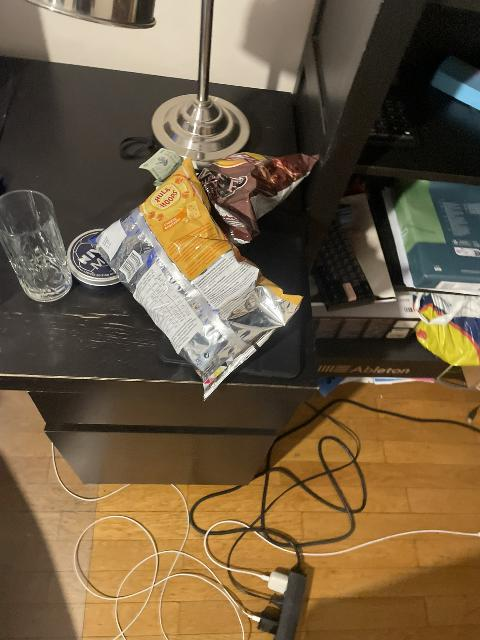Chio Hula Hoops Cheese 70g: (97, 163, 301, 387)
Lays Beef Grilled Ribs 125g: (198, 151, 316, 246)
